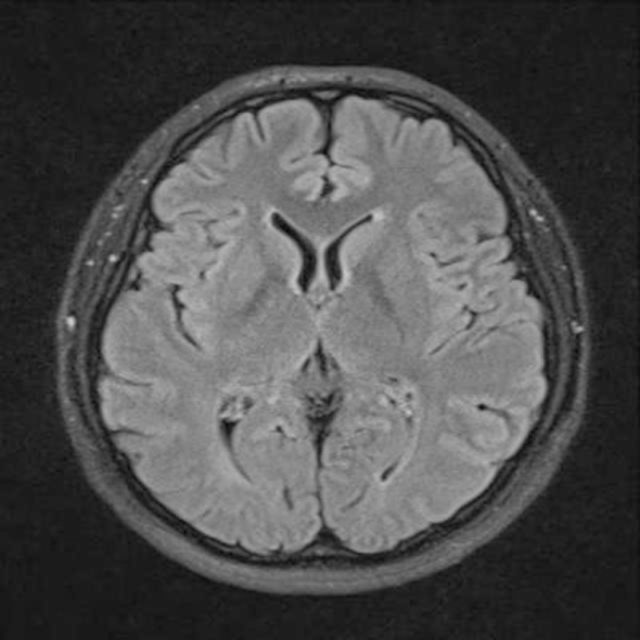glioma tumor: (173, 123, 483, 518)
